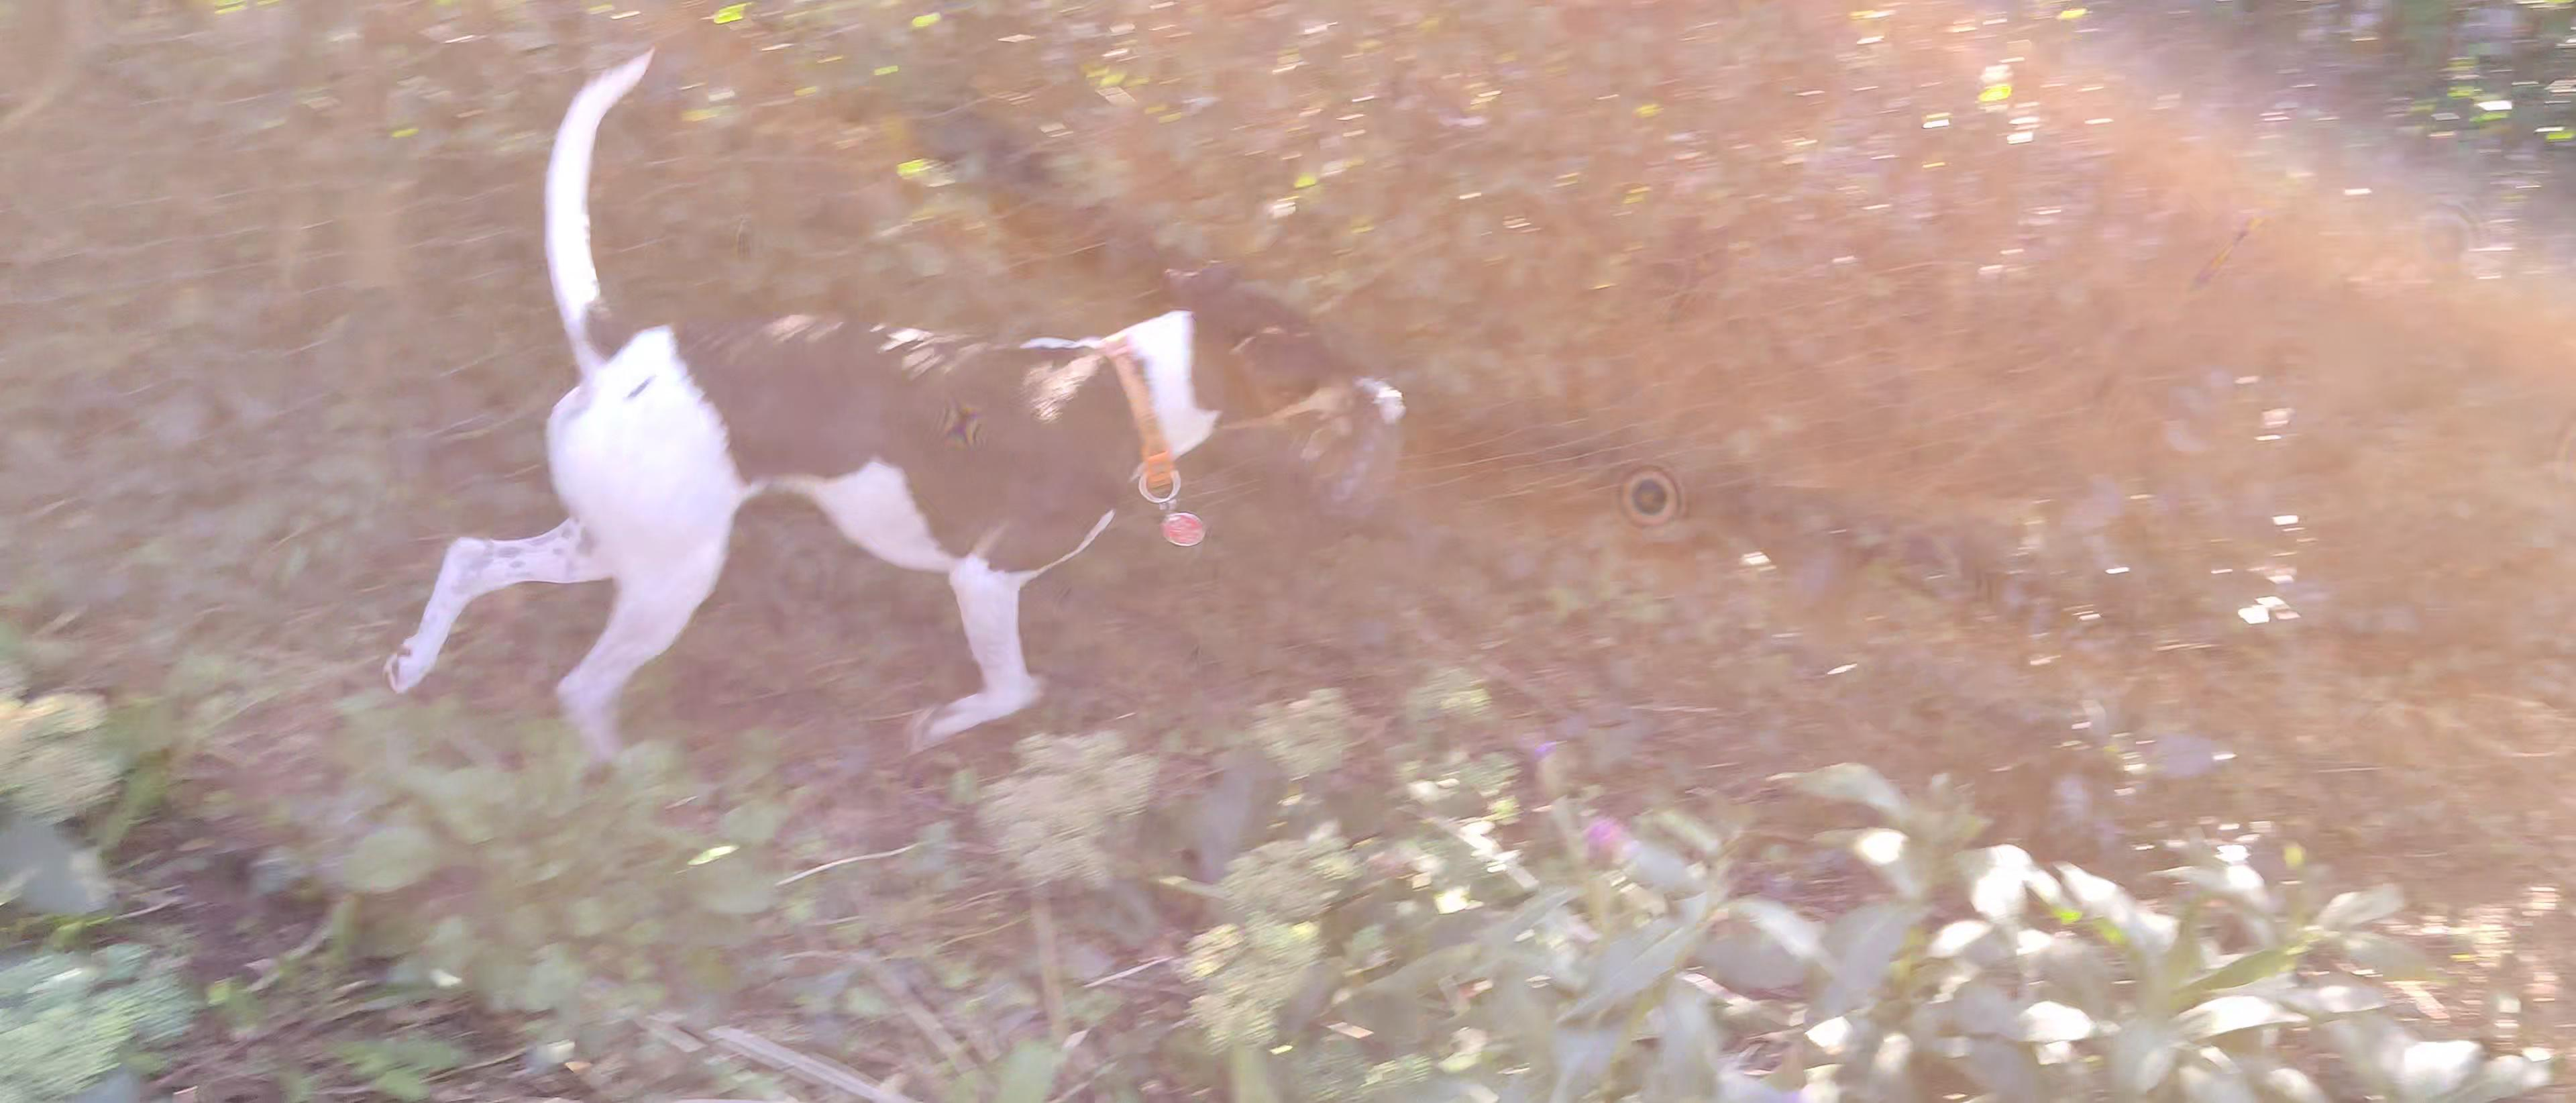Dog: (381, 44, 1360, 759)
